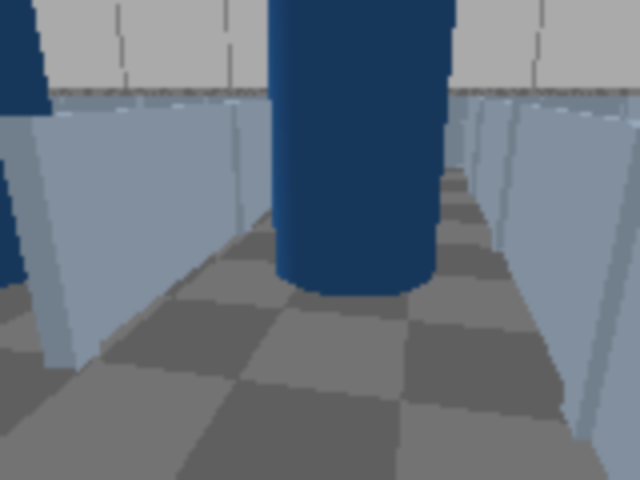person: (0, 0, 56, 296)
